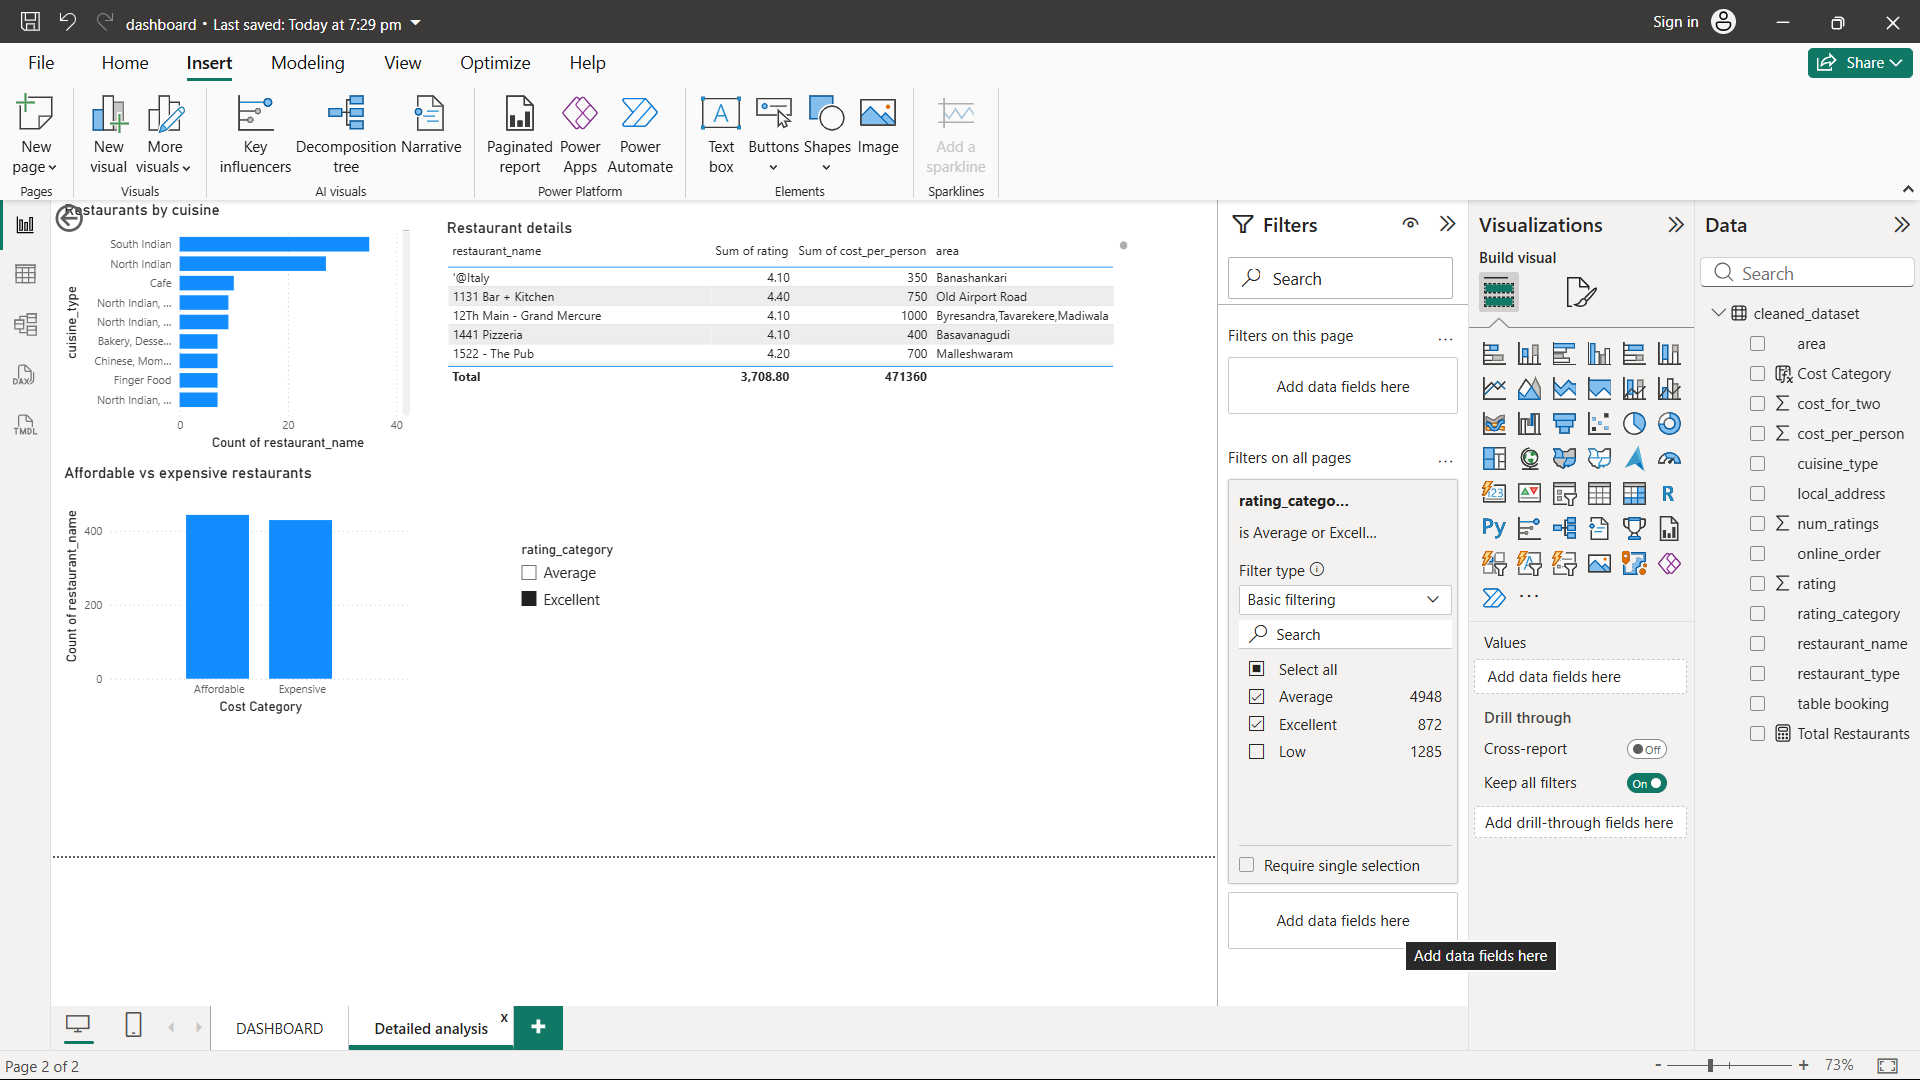

This screenshot's page, from the dashboard's own definition file:
{"tool":"powerbi","page":{"name":"Detailed analysis","canvas":[1280,720],"ordinal":1},"visuals":[{"type":"clusteredBarChart","title":"Restaurants by cuisine","fields":{"Category":["cleaned_dataset.cuisine_type"],"Y":["CountNonNull(cleaned_dataset.restaurant_name)"]},"box":[9.6,0,389.7,279.9],"z":0},{"type":"clusteredColumnChart","title":"Affordable vs expensive restaurants","fields":{"Category":["cleaned_dataset.Cost Category"],"Y":["CountNonNull(cleaned_dataset.restaurant_name)"]},"box":[10,290,390,280],"z":1},{"type":"tableEx","title":"Restaurant details","fields":{"Values":["cleaned_dataset.restaurant_name","Sum(cleaned_dataset.rating)","Sum(cleaned_dataset.cost_per_person)","cleaned_dataset.area"]},"box":[429.5,20.6,757.5,188],"z":2},{"type":"actionButton","box":[0,0,100,40],"z":3},{"type":"slicer","fields":{"Values":["cleaned_dataset.rating_category"]},"box":[503.6,370.5,389.7,150.9],"z":4}]}

Visuals, with their boxes on the page's 1280x720 design canvas (x1, y1, x2, y2). These are canvas units, not pixel positions in the 1920x1080 screenshot, which may show the page scaled, cropped or inside an application window:
"Restaurants by cuisine" clusteredBarChart: locate(10, 0, 399, 280)
"Affordable vs expensive restaurants" clusteredColumnChart: locate(10, 290, 400, 570)
"Restaurant details" tableEx: locate(430, 21, 1187, 209)
actionButton: locate(0, 0, 100, 40)
slicer - cleaned_dataset.rating_category: locate(504, 370, 893, 521)
